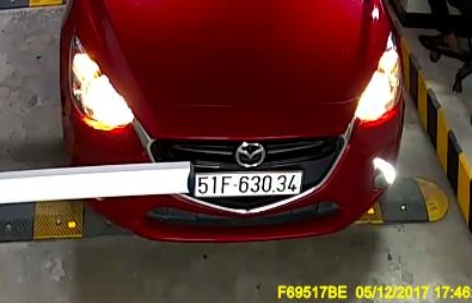plate: (190, 168, 306, 201)
